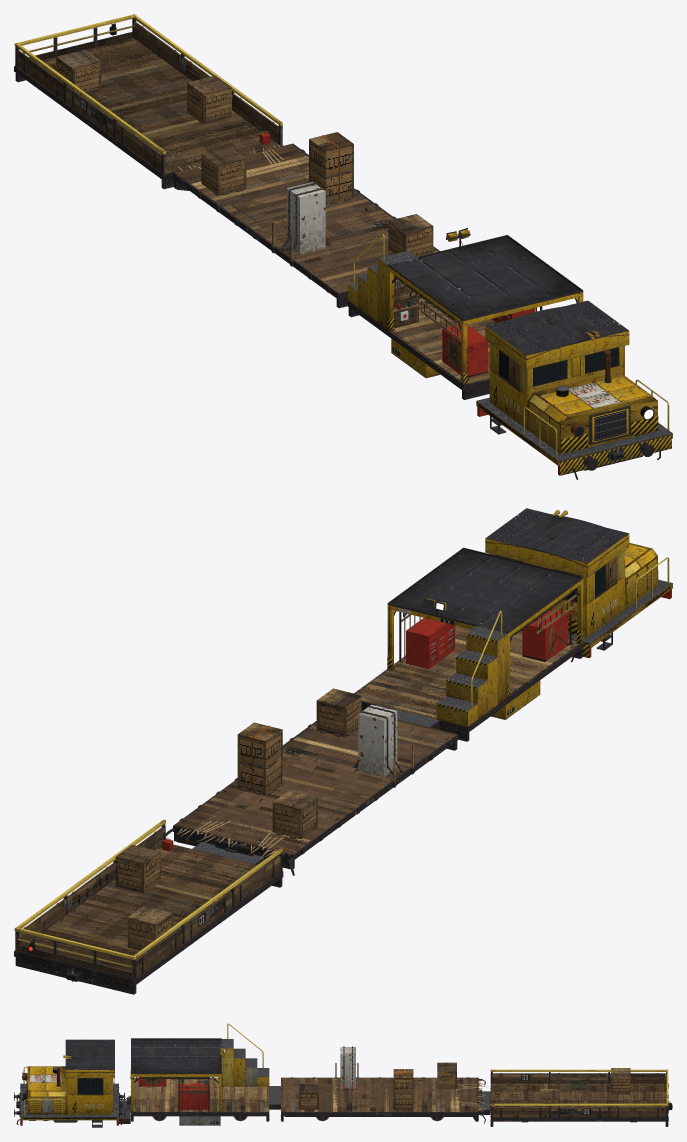
Rendered from rp_train.glb.
The picture shows the model from 3 angles, top to bottom: view 1: azimuth 30°, elevation 25°; view 2: azimuth 150°, elevation 25°; view 3: azimuth 270°, elevation 25°; orthographic projection. The views are drawn at different scales.
Visible parts, largest first — view 1: wagon_body, loco_body, van_body, wagon_lod, flat_body, flat_lod, van_lod, loco_lod, cover_flat_1, cover_wagon_1, cover_flat_0, cover_wagon_0; view 2: van_body, flat_lod, wagon_lod, van_lod, wagon_body, loco_body, flat_body, loco_lod, cover_flat_1, flat_end_bitten, cover_wagon_1, cover_flat_0 (+3 smaller); view 3: van_body, van_lod, wagon_body, wagon_lod, flat_lod, flat_body, loco_body, loco_lod, cover_van_0, cover_flat_1, flat_end_bitten, cover_flat_3 (+6 smaller).
Boxes of the visible parts, x1,y1,x2,y2 form: wagon_body: [14, 16, 282, 189]; loco_body: [476, 306, 672, 479]; van_body: [348, 228, 583, 399]; wagon_lod: [14, 14, 282, 177]; flat_body: [173, 143, 439, 308]; flat_lod: [173, 132, 434, 298]; van_lod: [348, 237, 582, 390]; loco_lod: [476, 300, 672, 475]; cover_flat_1: [309, 132, 353, 204]; cover_wagon_1: [187, 75, 231, 123]; cover_flat_0: [201, 147, 246, 195]; cover_wagon_0: [56, 49, 101, 95]; van_body: [354, 547, 583, 741]; flat_lod: [173, 688, 457, 865]; wagon_lod: [14, 819, 282, 984]; van_lod: [357, 550, 583, 732]; wagon_body: [14, 823, 283, 994]; loco_body: [485, 510, 672, 662]; flat_body: [173, 706, 457, 860]; loco_lod: [485, 508, 672, 657]; cover_flat_1: [237, 723, 282, 794]; flat_end_bitten: [165, 820, 294, 875]; cover_wagon_1: [115, 845, 160, 893]; cover_flat_0: [272, 793, 317, 838]; van_body: [127, 1023, 269, 1125]; van_lod: [131, 1039, 269, 1119]; wagon_body: [490, 1070, 672, 1126]; wagon_lod: [490, 1068, 668, 1121]; flat_lod: [281, 1047, 478, 1119]; flat_body: [280, 1046, 478, 1121]; loco_body: [14, 1046, 125, 1127]; loco_lod: [20, 1039, 118, 1123]; cover_van_0: [179, 1090, 209, 1108]; cover_flat_1: [393, 1069, 413, 1109]; flat_end_bitten: [455, 1078, 486, 1123]; cover_flat_3: [298, 1083, 318, 1109].
Bounding box in the file's own units: 4.66 × 4.16 × 33.35.
5 materials, 1 textured.
